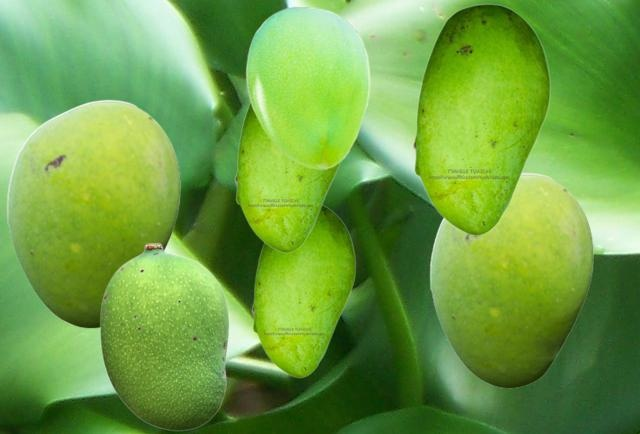green_mango: (6, 99, 179, 327), (429, 172, 592, 387), (412, 3, 550, 235), (99, 242, 228, 430), (245, 6, 369, 168), (251, 205, 355, 377), (234, 102, 340, 252)
